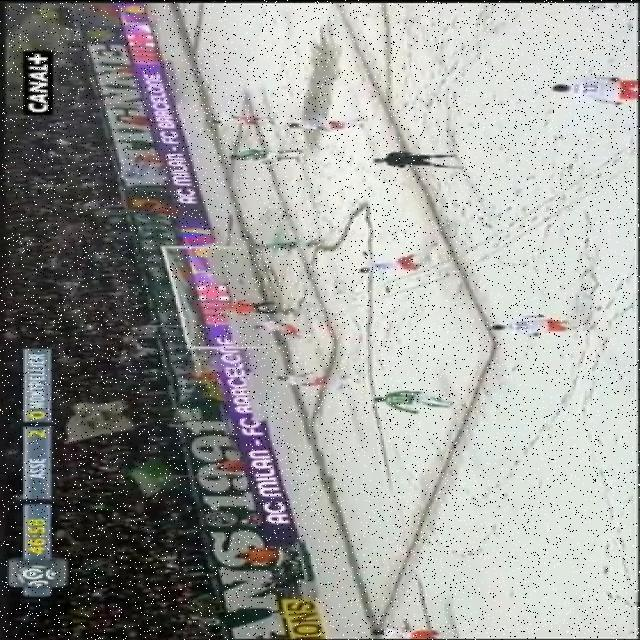goalkeeper: (210, 296, 284, 316)
player: (528, 62, 640, 108), (475, 309, 600, 342), (344, 248, 448, 284), (287, 108, 386, 141), (366, 387, 464, 419), (264, 366, 342, 394), (251, 317, 323, 346), (343, 620, 446, 640), (204, 107, 278, 129), (220, 147, 296, 167)
referee: (362, 146, 472, 174)
